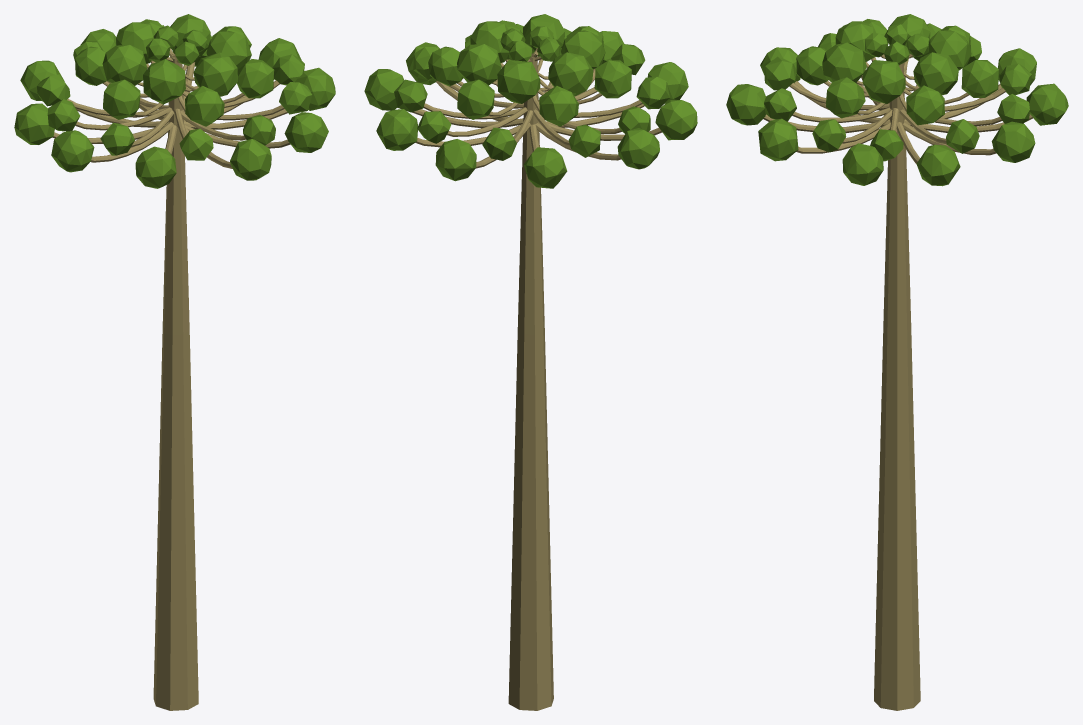
The model's file is Araucaria.fbx.
The picture shows the model from 3 angles, left to right: view 1: azimuth 30°, elevation 25°; view 2: azimuth 150°, elevation 25°; view 3: azimuth 270°, elevation 25°; orthographic projection.
Visible parts, largest first — view 1: folhagem, Cylinder, tronco; view 2: folhagem, Cylinder, tronco; view 3: folhagem, Cylinder, tronco.
Part boxes in pixels (bbox=[...]): folhagem: bbox=[14, 14, 335, 188]; Cylinder: bbox=[153, 54, 198, 710]; tronco: bbox=[52, 48, 290, 168]; folhagem: bbox=[364, 14, 697, 188]; Cylinder: bbox=[508, 53, 553, 710]; tronco: bbox=[412, 48, 662, 168]; folhagem: bbox=[726, 14, 1068, 186]; Cylinder: bbox=[874, 63, 920, 710]; tronco: bbox=[763, 54, 1032, 163].
Size of the model in its own units: 1515 by 3378 by 1572.
